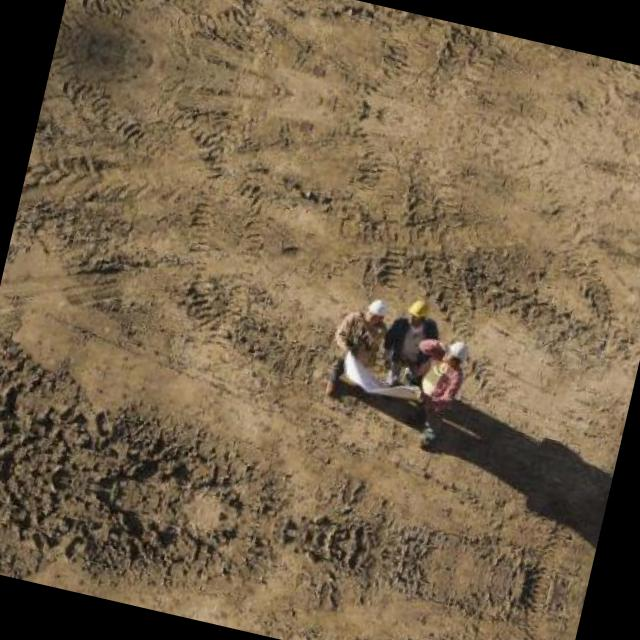helmet: (438, 334, 472, 368), (402, 298, 431, 330), (364, 296, 388, 326)
